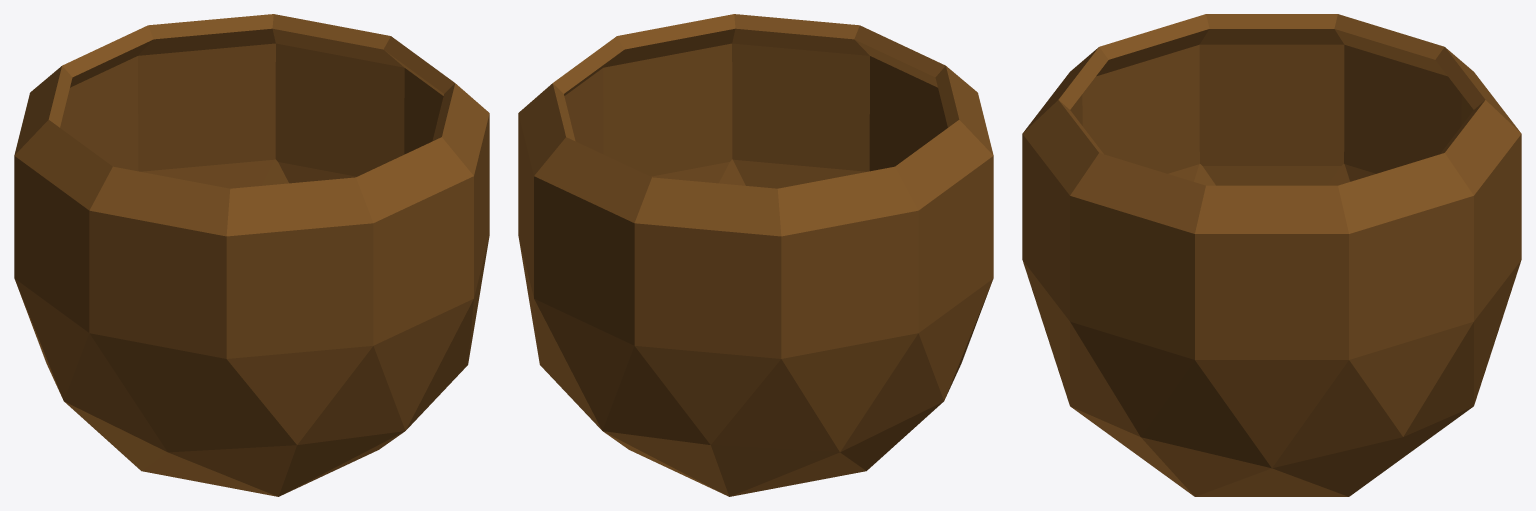
File: canastoFinal.fbx
3 views of the same model, side by side, from view 1: azimuth 30°, elevation 25°; view 2: azimuth 150°, elevation 25°; view 3: azimuth 270°, elevation 25° (orthographic). The views are drawn at different scales.
Visible parts, largest first — view 1: Icosphere; view 2: Icosphere; view 3: Icosphere.
Boxes of the visible parts, <box> form: Icosphere: <box>14,14,489,496</box>; Icosphere: <box>518,14,993,496</box>; Icosphere: <box>1022,14,1521,496</box>.
Size of the model in its own units: 190 by 171 by 200.
